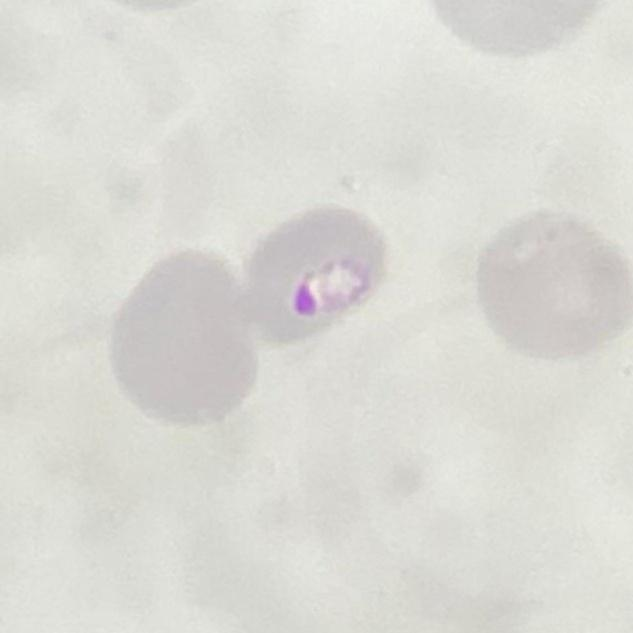Infected: (242, 205, 385, 347)
Uninfected: (108, 252, 256, 422), (475, 208, 633, 362)
